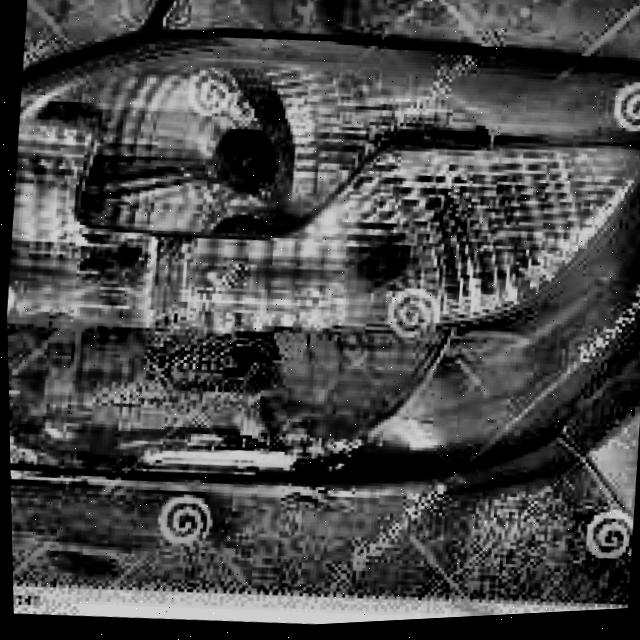tail_lamp: (165, 294, 308, 417)
